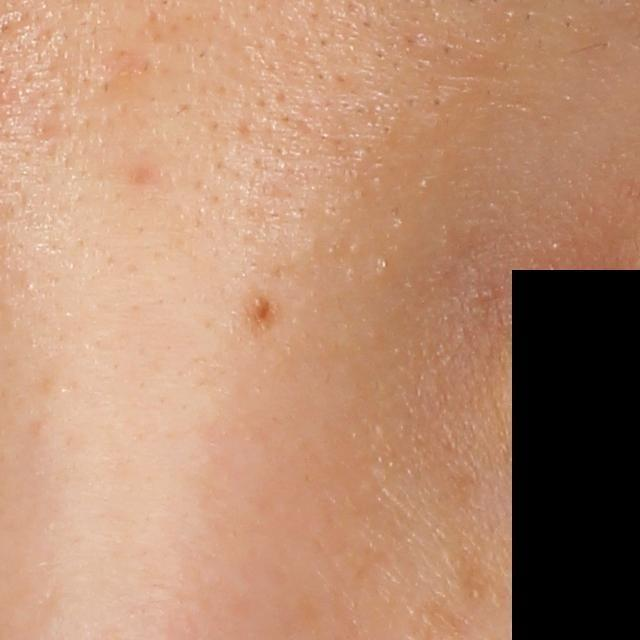melasma: (435, 467, 504, 612)
nevus: (241, 290, 292, 345)
